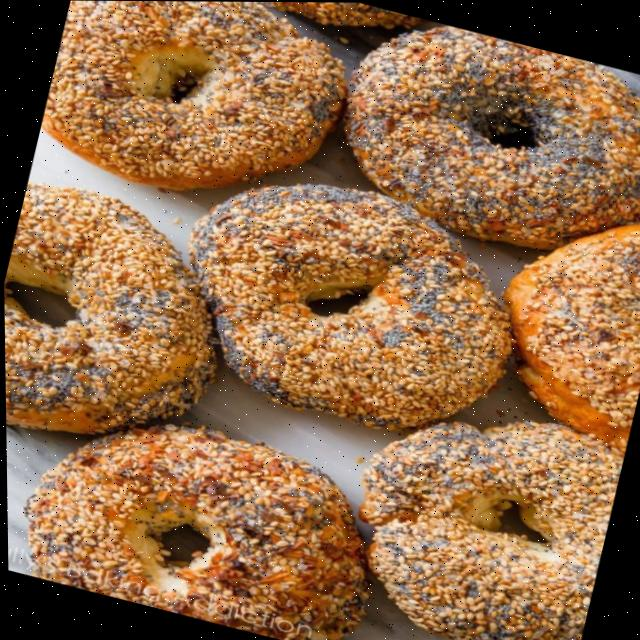Bagel: (190, 184, 511, 429), (24, 426, 368, 640), (345, 25, 640, 249), (357, 421, 621, 640), (42, 0, 347, 189), (3, 184, 215, 433), (504, 224, 640, 448)
